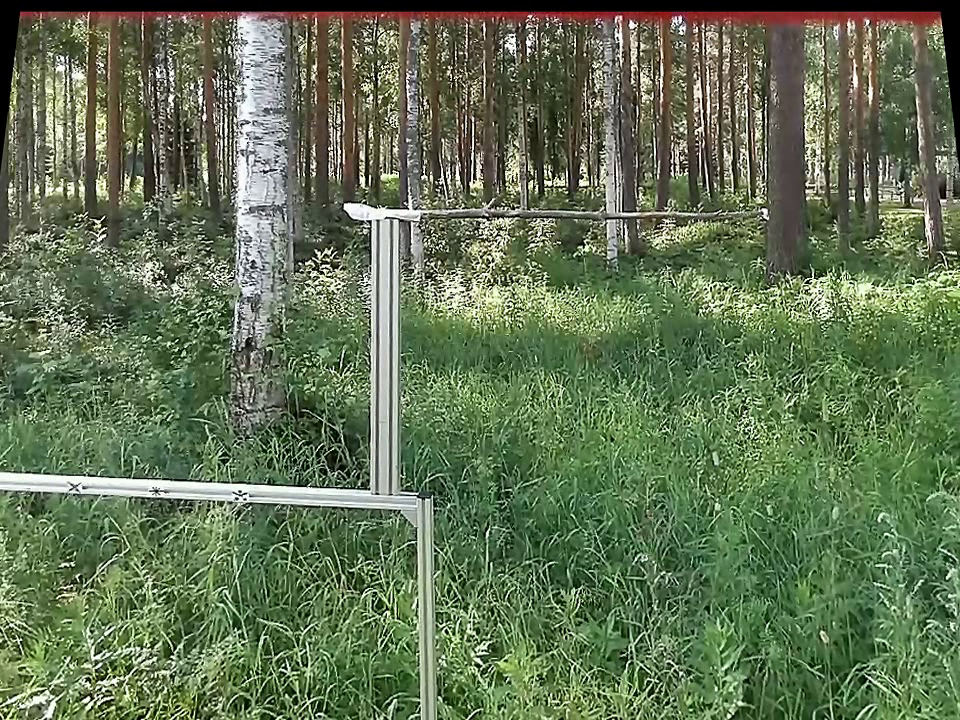aluminum_frame: (1, 467, 416, 513), (364, 220, 406, 494), (410, 487, 440, 717)
branch: (423, 192, 751, 229)
